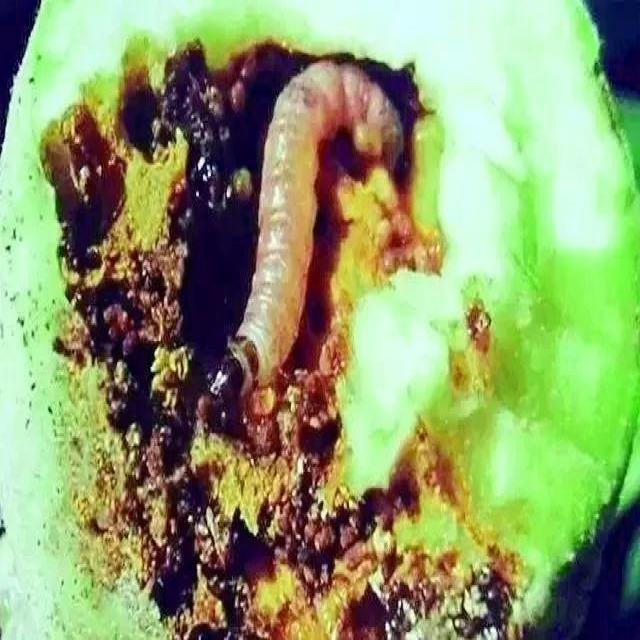peach borer: (202, 54, 406, 424)
